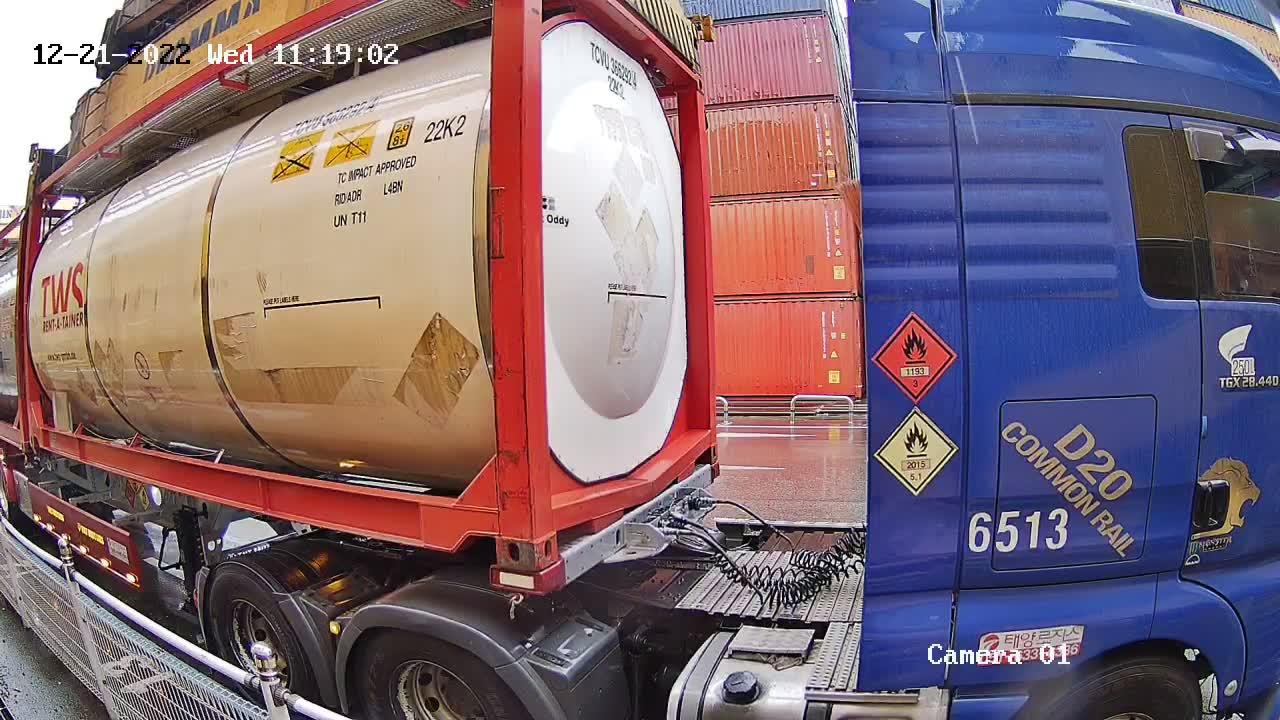Chassis: (483, 463, 718, 599)
Hole_L: (534, 487, 583, 570)
Hole_R: (451, 503, 534, 573), (691, 423, 719, 472)
Tire: (352, 625, 534, 719), (206, 564, 305, 708)
